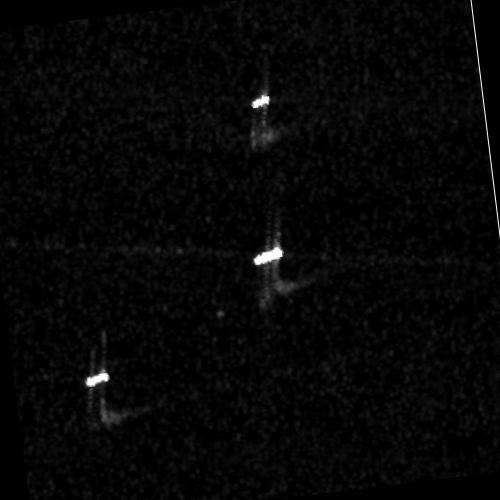ship: (252, 244, 284, 267), (84, 367, 109, 388), (251, 93, 269, 109)
